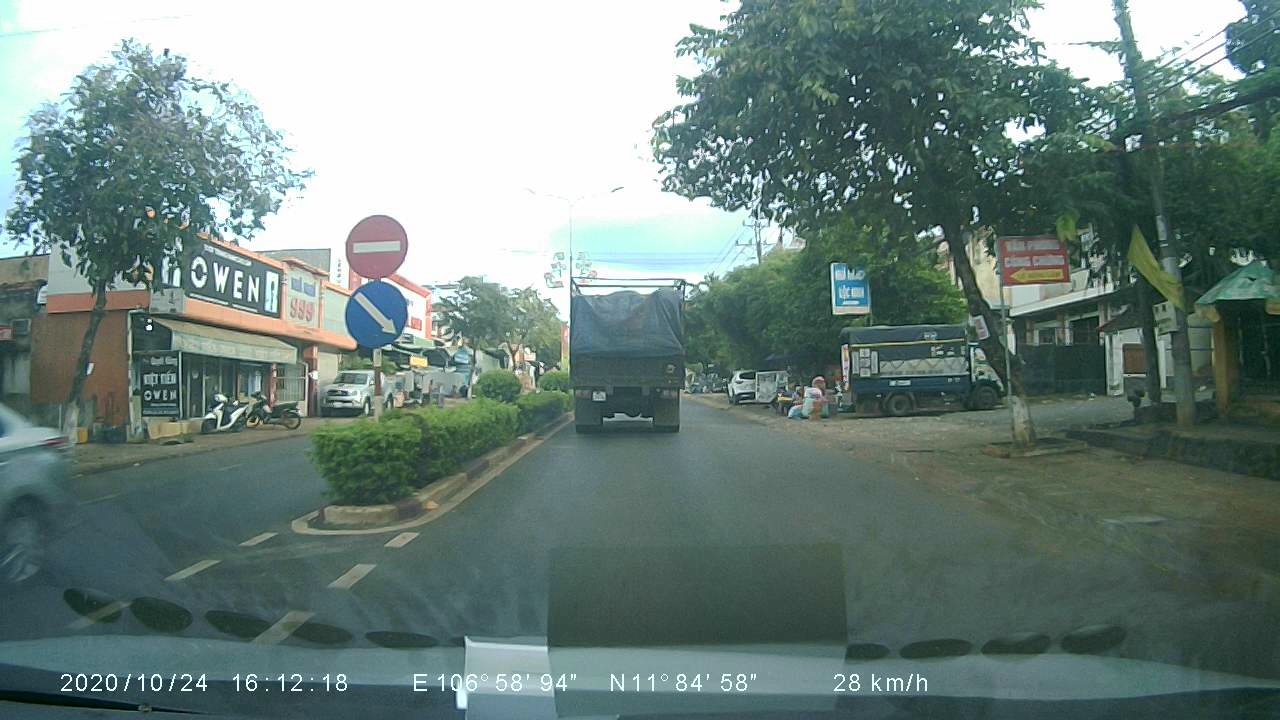Cam di nguoc chieu: (342, 209, 410, 281)
Huong di phai re phai: (341, 280, 412, 349)
